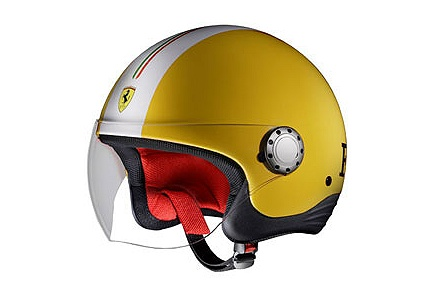helmet: (98, 30, 350, 254)
